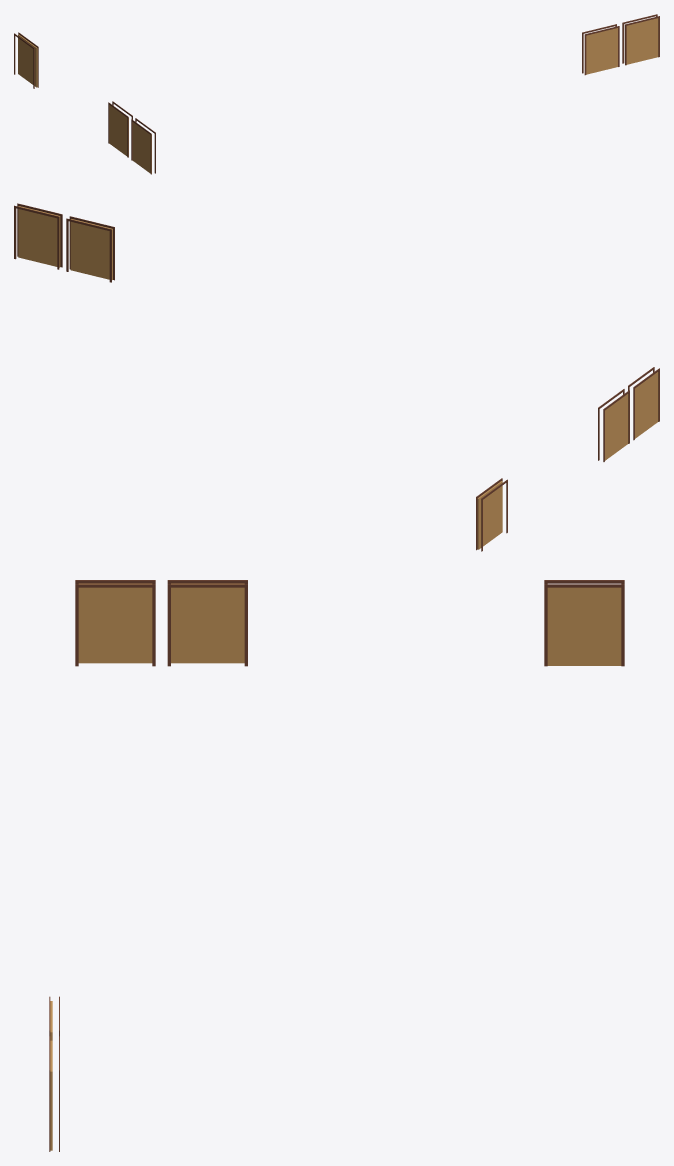
The model's file is Hackathon Site_IfcDoor.dae.
3 views of the same model, one above another, from view 1: azimuth 30°, elevation 25°; view 2: azimuth 150°, elevation 25°; view 3: azimuth 270°, elevation 25° (orthographic). The views are drawn at different scales.
Visible parts, largest first — view 1: 1WlXMZY4P8ZgBuWCBrVopw, 1WlXMZY4P8ZgBuWCBrVonk, 0fBAdW72T0keWTxG2HbIO0, 3DTyfZBMjELed2J$rO1tyl, 1WlXMZY4P8ZgBuWCBrVpAS; view 2: 1WlXMZY4P8ZgBuWCBrVopw, 1WlXMZY4P8ZgBuWCBrVonk, 1WlXMZY4P8ZgBuWCBrVpAS, 3DTyfZBMjELed2J$rO1tyl, 0fBAdW72T0keWTxG2HbIO0; view 3: 3DTyfZBMjELed2J$rO1tyl, 0fBAdW72T0keWTxG2HbIO0, 1WlXMZY4P8ZgBuWCBrVpAS.
Boxes of the visible parts, bbox=[...] form: 1WlXMZY4P8ZgBuWCBrVopw: bbox=[622, 14, 659, 65]; 1WlXMZY4P8ZgBuWCBrVonk: bbox=[582, 24, 619, 75]; 0fBAdW72T0keWTxG2HbIO0: bbox=[131, 118, 155, 174]; 3DTyfZBMjELed2J$rO1tyl: bbox=[14, 32, 38, 88]; 1WlXMZY4P8ZgBuWCBrVpAS: bbox=[108, 101, 132, 157]; 1WlXMZY4P8ZgBuWCBrVopw: bbox=[14, 203, 62, 269]; 1WlXMZY4P8ZgBuWCBrVonk: bbox=[66, 216, 114, 282]; 1WlXMZY4P8ZgBuWCBrVpAS: bbox=[598, 389, 629, 461]; 3DTyfZBMjELed2J$rO1tyl: bbox=[476, 478, 507, 551]; 0fBAdW72T0keWTxG2HbIO0: bbox=[628, 367, 659, 440]; 3DTyfZBMjELed2J$rO1tyl: bbox=[544, 580, 624, 666]; 0fBAdW72T0keWTxG2HbIO0: bbox=[75, 580, 155, 666]; 1WlXMZY4P8ZgBuWCBrVpAS: bbox=[167, 580, 247, 666].
Size of the model in its own units: 27.13 by 13.46 by 2.11.
